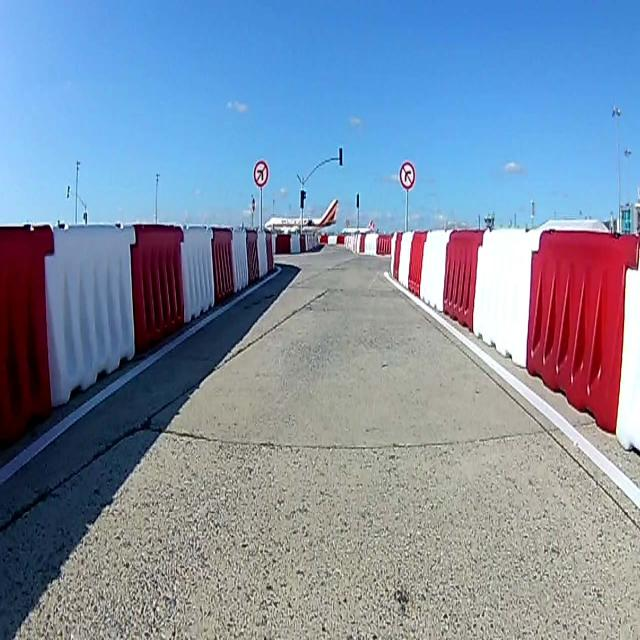sagadonulmez: (398, 160, 417, 192)
soladonulmez: (254, 160, 268, 188)
